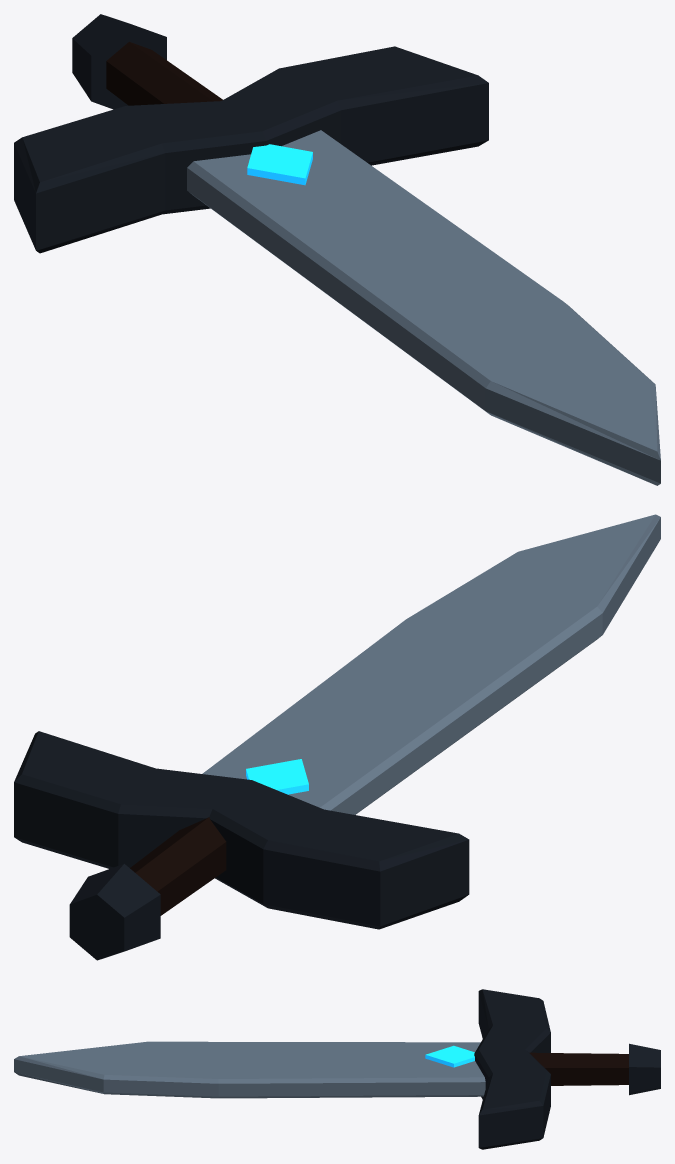
The model's file is Item_WardenBlade.fbx.
3 views of the same model, one above another, from view 1: azimuth 30°, elevation 25°; view 2: azimuth 150°, elevation 25°; view 3: azimuth 270°, elevation 25° (orthographic). The views are drawn at different scales.
Parts seen in each view (by area): view 1: Item_WardenBlade; view 2: Item_WardenBlade; view 3: Item_WardenBlade.
Part boxes in pixels (x1=…): Item_WardenBlade: x1=14, y1=14, x2=660, y2=485; Item_WardenBlade: x1=14, y1=514, x2=660, y2=960; Item_WardenBlade: x1=14, y1=989, x2=660, y2=1149.
Size of the model in its own units: 0.4133 by 0.08 by 0.9075.
